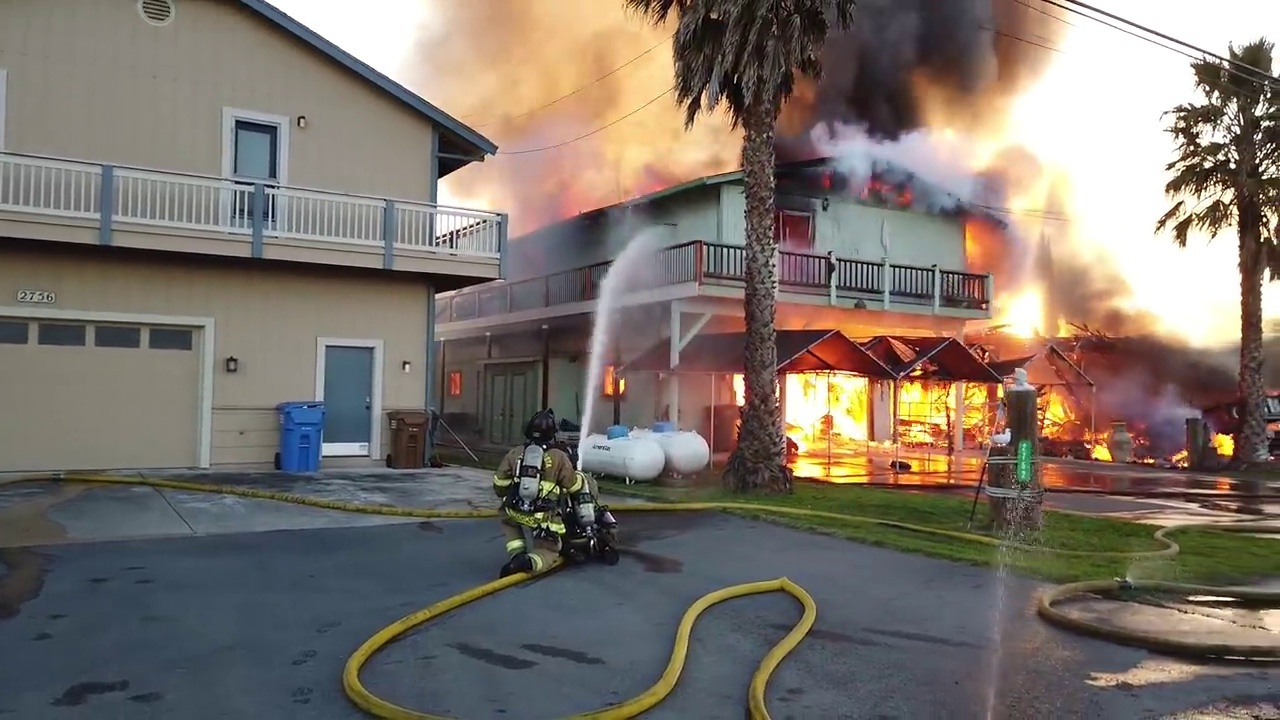fire: (989, 286, 1049, 336), (852, 175, 914, 211), (1035, 384, 1073, 433), (728, 363, 749, 413), (1083, 435, 1115, 460), (605, 363, 626, 397), (1209, 431, 1236, 456), (1171, 445, 1189, 460), (1215, 477, 1233, 486)
smoke: (665, 0, 1072, 170), (970, 147, 1134, 292), (1067, 309, 1246, 425), (586, 184, 676, 366), (591, 420, 712, 482)
